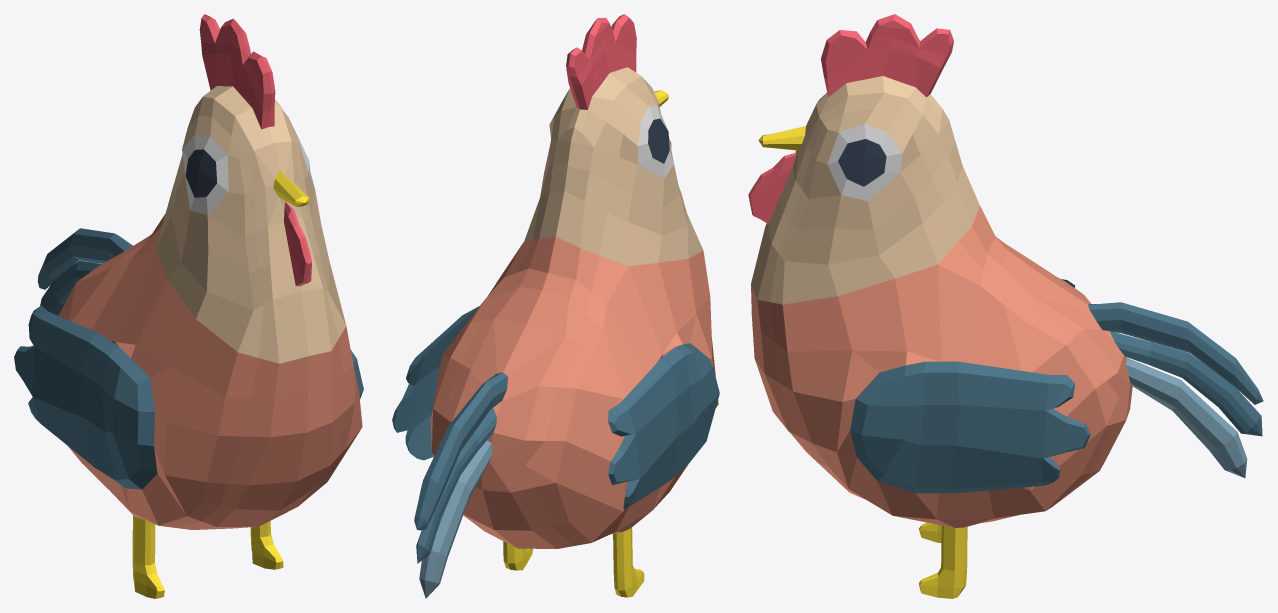
File: rooster2.glb
3 renders of one model, left to right at view 1: azimuth 30°, elevation 25°; view 2: azimuth 150°, elevation 25°; view 3: azimuth 270°, elevation 25°, orthographic. The views are drawn at different scales.
Parts seen in each view (by area): view 1: Rooster; view 2: Rooster; view 3: Rooster.
Part boxes in pixels (x1,y1,x2,y2): Rooster: (14,14,363,598); Rooster: (392,14,719,598); Rooster: (748,14,1263,598).
Bounding box in the file's own units: 0.9729 × 2.19 × 1.85.
